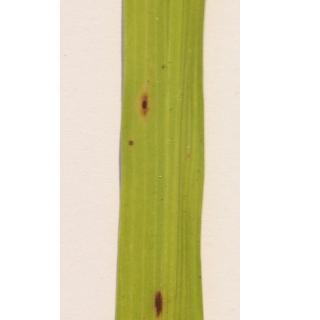bercak-Cokelat: (154, 276, 164, 316), (137, 95, 149, 118), (127, 132, 138, 154), (156, 61, 170, 77)
